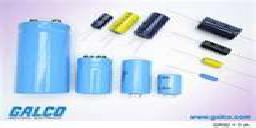Electrolytic-Capacitor: (17, 15, 71, 99), (75, 54, 112, 95), (118, 56, 152, 96), (75, 11, 116, 44), (192, 12, 246, 37), (154, 71, 183, 97), (197, 39, 239, 55), (198, 54, 226, 70), (196, 71, 223, 85)
